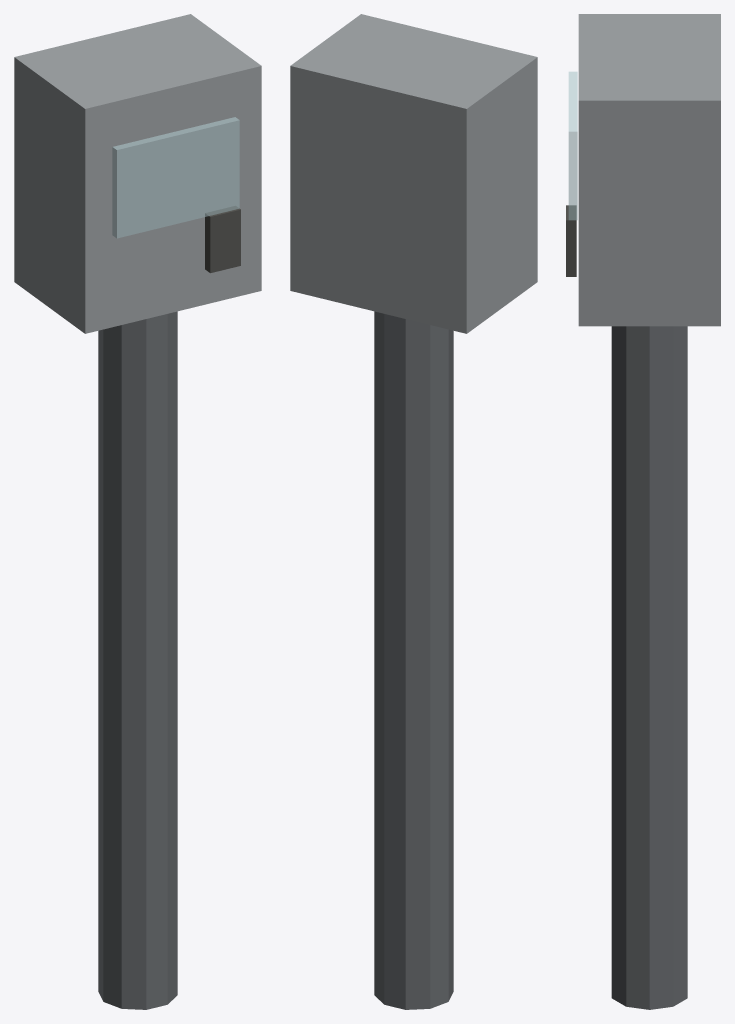
The model's file is parking_meter_01.glb.
3 renders of one model, left to right at view 1: azimuth 30°, elevation 25°; view 2: azimuth 150°, elevation 25°; view 3: azimuth 270°, elevation 25°, orthographic.
Visible parts, largest first — view 1: head, pole, face, coin; view 2: head, pole; view 3: pole, head, face, coin.
Boxes of the visible parts, bbox=[...] form: head: bbox=[14, 14, 261, 333]; pole: bbox=[98, 311, 177, 1009]; face: bbox=[112, 117, 239, 238]; coin: bbox=[205, 206, 240, 273]; head: bbox=[290, 14, 537, 333]; pole: bbox=[374, 311, 453, 1009]; pole: bbox=[611, 326, 687, 1009]; head: bbox=[578, 14, 720, 326]; face: bbox=[568, 71, 577, 220]; coin: bbox=[566, 205, 576, 276].
Bounding box in the file's own units: 0.23 × 1.16 × 0.174.
